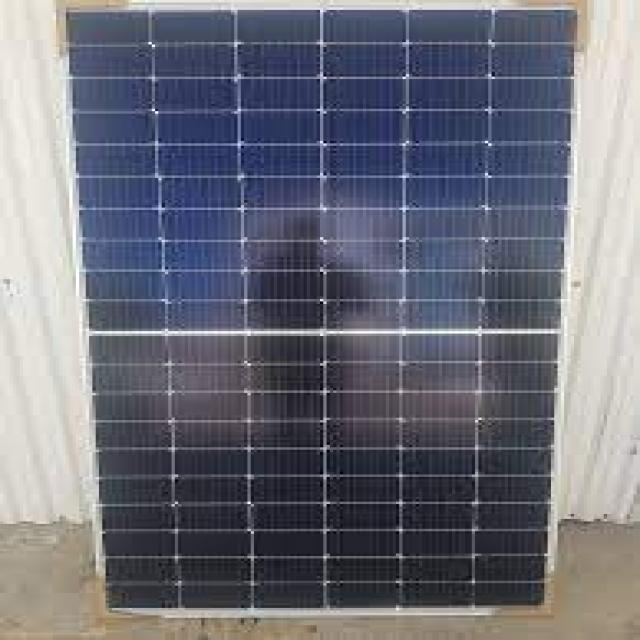no faulty: (55, 8, 563, 618)
